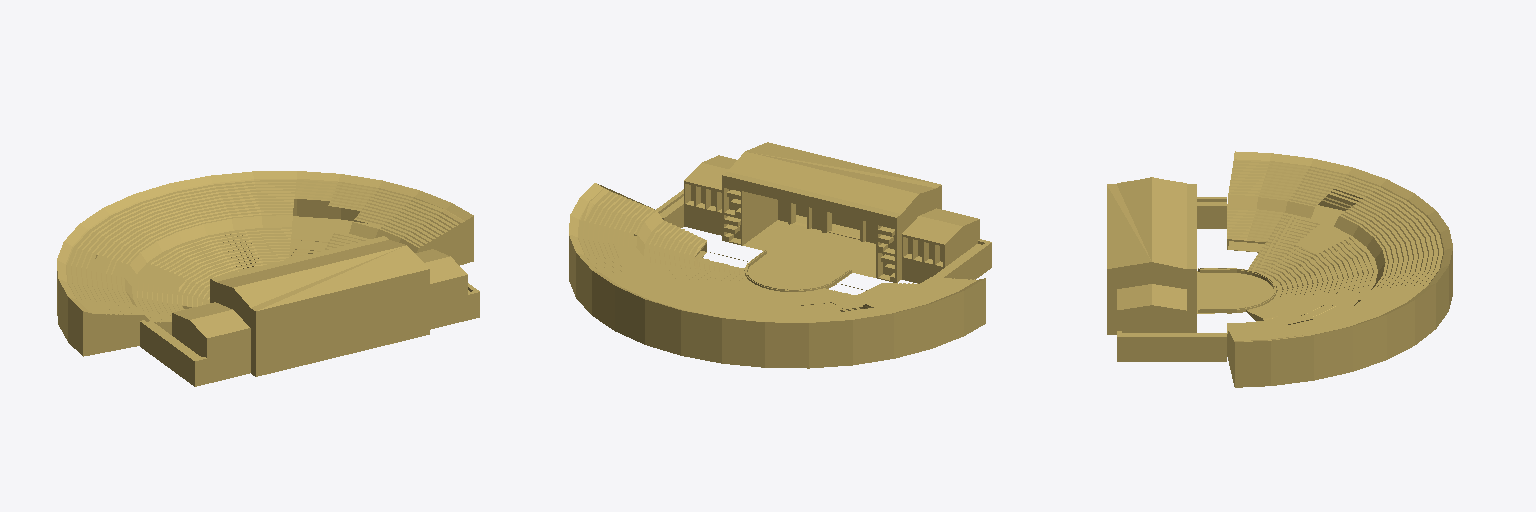
Rendered from greek-theatre-broken.obj.
3 renders of one model, left to right at view 1: azimuth 30°, elevation 25°; view 2: azimuth 150°, elevation 25°; view 3: azimuth 270°, elevation 25°, orthographic.
Parts seen in each view (by area): view 1: theatron_Circle, Cube; view 2: theatron_Circle, Cube, Circle_Circle.001; view 3: theatron_Circle, Cube, Circle_Circle.001.
Boxes of the visible parts, x1=… form: theatron_Circle: x1=57, y1=171, x2=473, y2=356; Cube: x1=140, y1=236, x2=479, y2=386; theatron_Circle: x1=569, y1=183, x2=985, y2=368; Cube: x1=656, y1=142, x2=991, y2=283; Circle_Circle.001: x1=744, y1=249, x2=851, y2=291; theatron_Circle: x1=1227, y1=151, x2=1452, y2=387; Cube: x1=1107, y1=177, x2=1226, y2=361; Circle_Circle.001: x1=1197, y1=268, x2=1276, y2=313.
Bounding box in the file's own units: 22.46 × 4 × 17.25.